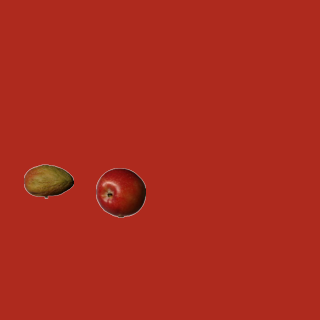Apple Braeburn: (95, 167, 145, 217)
Papaya: (23, 156, 73, 206)
